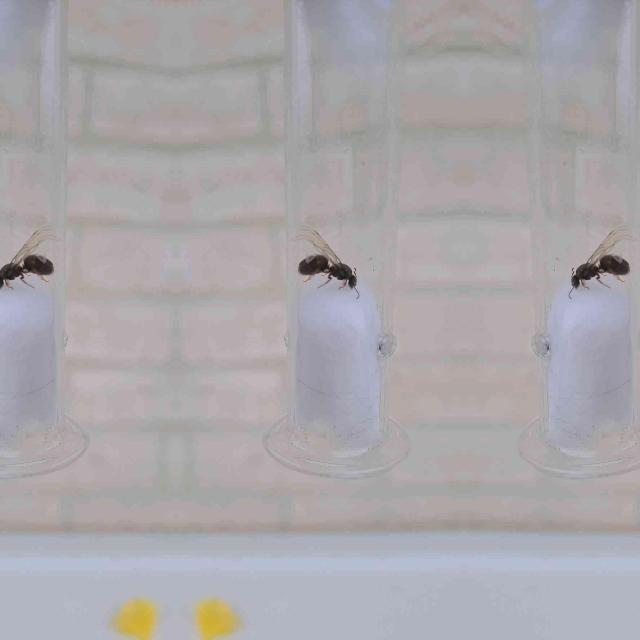Lasius: (289, 218, 366, 298), (560, 218, 636, 298), (0, 218, 60, 296)
